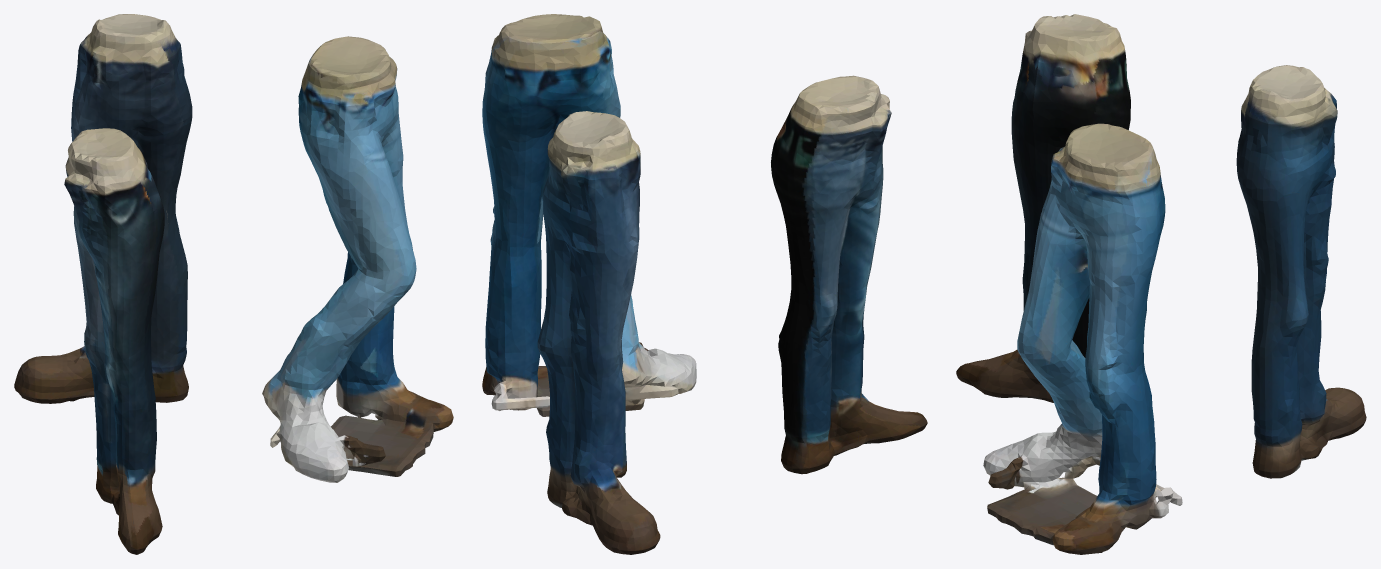
File: jeans_1model.glb
3 renders of one model, left to right at view 1: azimuth 30°, elevation 25°; view 2: azimuth 150°, elevation 25°; view 3: azimuth 270°, elevation 25°, orthographic. The views are drawn at different scales.
Parts seen in each view (by area): view 1: tripo_node_982dbb67-bbff-4e12-a38b-8e96d5251793; view 2: tripo_node_982dbb67-bbff-4e12-a38b-8e96d5251793; view 3: tripo_node_982dbb67-bbff-4e12-a38b-8e96d5251793.
Boxes of the visible parts, x1,y1,x2,y2 form: tripo_node_982dbb67-bbff-4e12-a38b-8e96d5251793: (14, 14, 453, 554); tripo_node_982dbb67-bbff-4e12-a38b-8e96d5251793: (482, 14, 927, 554); tripo_node_982dbb67-bbff-4e12-a38b-8e96d5251793: (956, 14, 1366, 554).
Size of the model in its own units: 2.3 by 2.17 by 2.13.
1 material, 1 textured.
